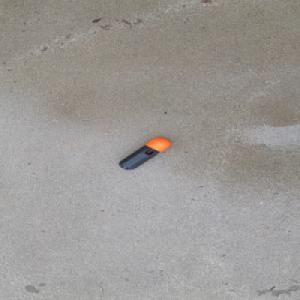PlasticPart: (118, 137, 171, 170)
